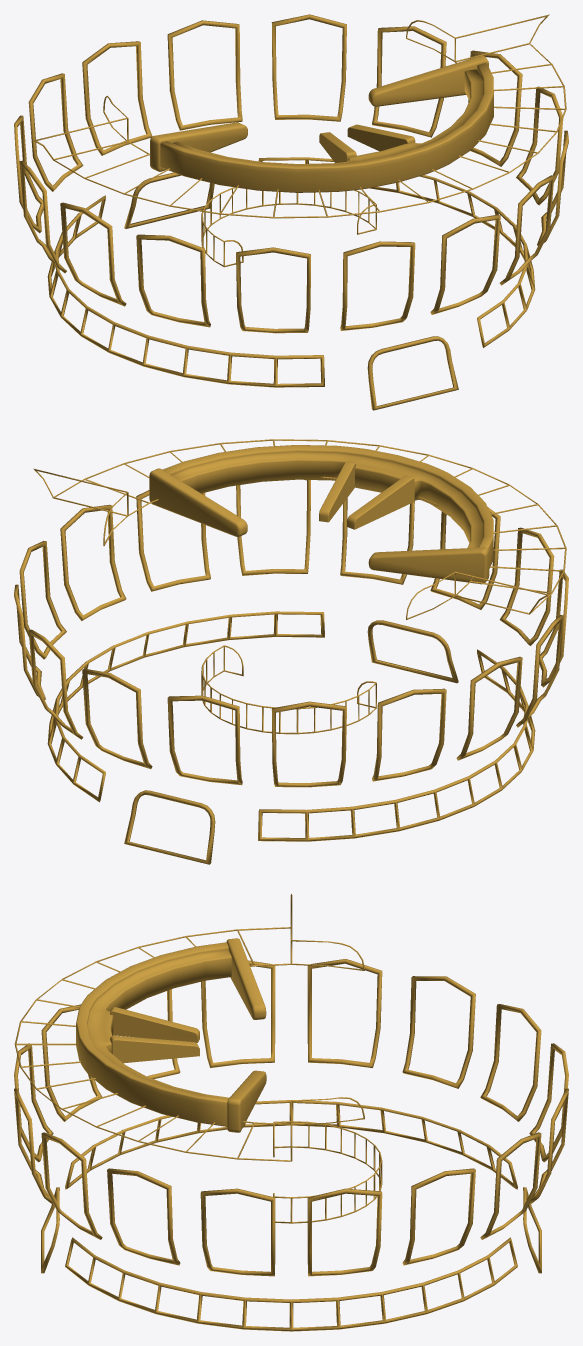
File: metalicbrownrails.glb
The picture shows the model from 3 angles, top to bottom: view 1: azimuth 30°, elevation 25°; view 2: azimuth 150°, elevation 25°; view 3: azimuth 270°, elevation 25°; orthographic projection.
Visible parts, largest first — view 1: MetalicRails; view 2: MetalicRails; view 3: MetalicRails.
Part boxes in pixels (left/top/right/bottom): MetalicRails: left=14, top=14, right=568, bottom=410; MetalicRails: left=14, top=439, right=568, bottom=864; MetalicRails: left=14, top=894, right=568, bottom=1331.
Size of what is drawn, in the model's own units: 36.27 by 15.58 by 33.59.
